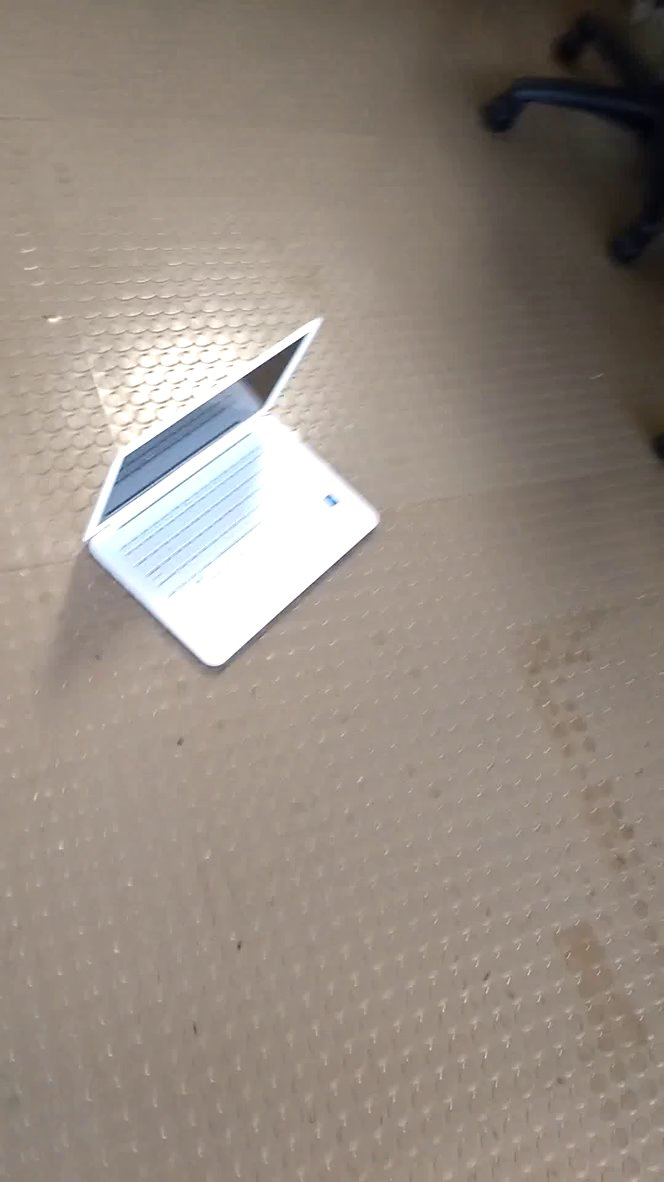laptop: (79, 303, 391, 679)
